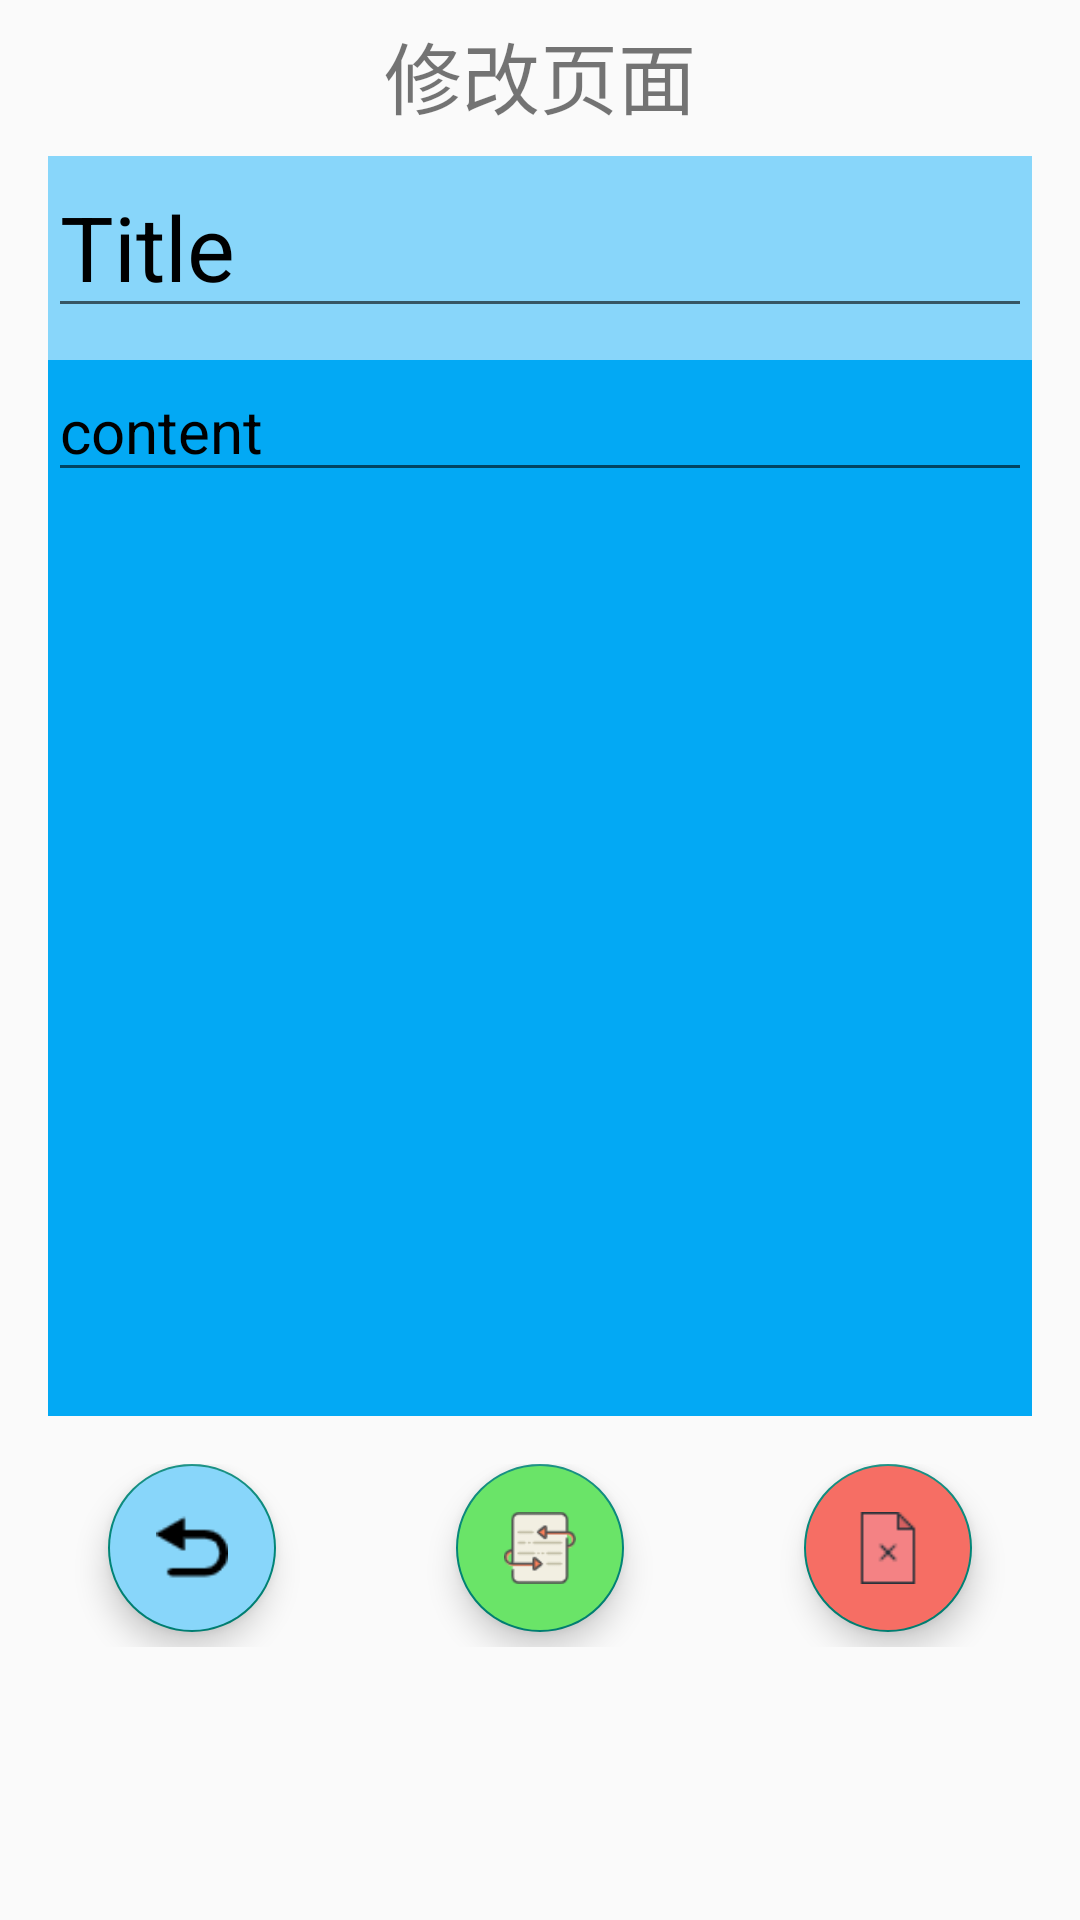

Where icons sit on this 1080 × 1920 app screen, as (x1, y1, x2, y2):
back: (108, 1464, 276, 1632)
delete one: (804, 1464, 972, 1632)
update: (456, 1464, 624, 1632)
